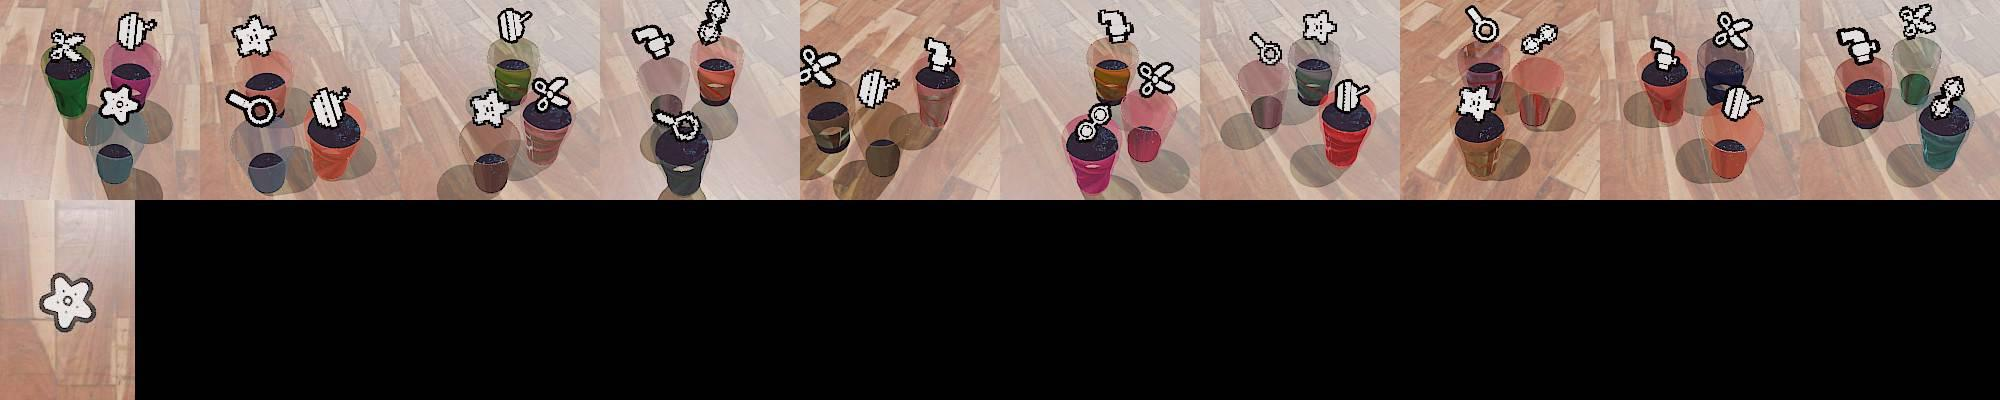icon: (37, 272, 96, 332), (224, 87, 281, 129), (651, 102, 706, 144), (230, 13, 276, 58), (309, 84, 351, 130), (855, 68, 901, 110), (798, 46, 842, 89), (97, 84, 143, 123), (115, 11, 158, 52), (1719, 84, 1765, 122), (467, 88, 510, 128), (1836, 26, 1881, 64), (1713, 11, 1754, 52), (1928, 74, 1965, 119), (1076, 100, 1116, 141), (1457, 84, 1499, 123), (631, 24, 676, 60), (697, 0, 732, 46), (1136, 59, 1177, 98), (530, 75, 572, 113), (1332, 76, 1371, 114), (47, 28, 88, 64), (1097, 8, 1134, 46), (497, 7, 534, 45), (1466, 4, 1501, 44), (1898, 3, 1936, 39), (1302, 9, 1339, 45), (1521, 22, 1559, 57), (1250, 31, 1284, 67), (924, 36, 955, 73), (1650, 36, 1678, 73)
